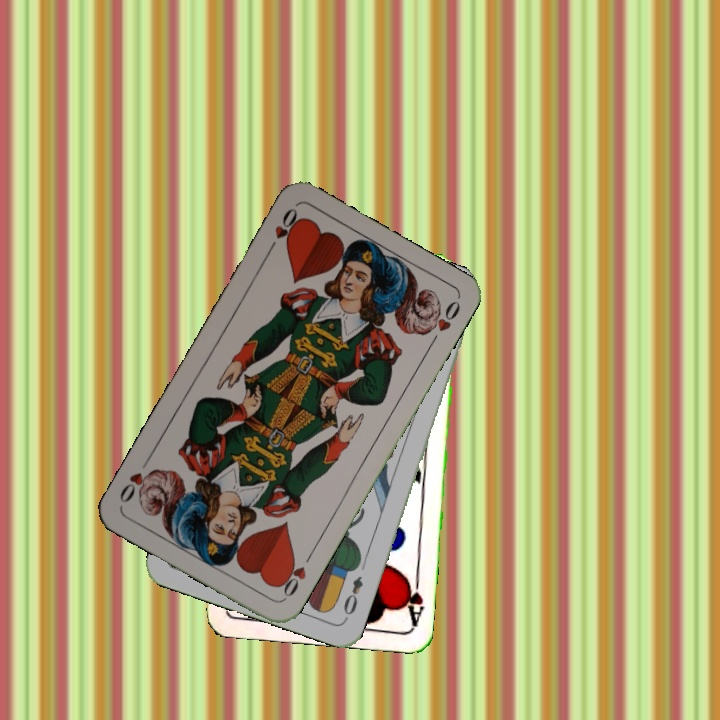EO: (339, 572, 366, 623)
HA: (399, 568, 427, 628)
HO: (274, 548, 316, 602), (263, 204, 304, 256)
